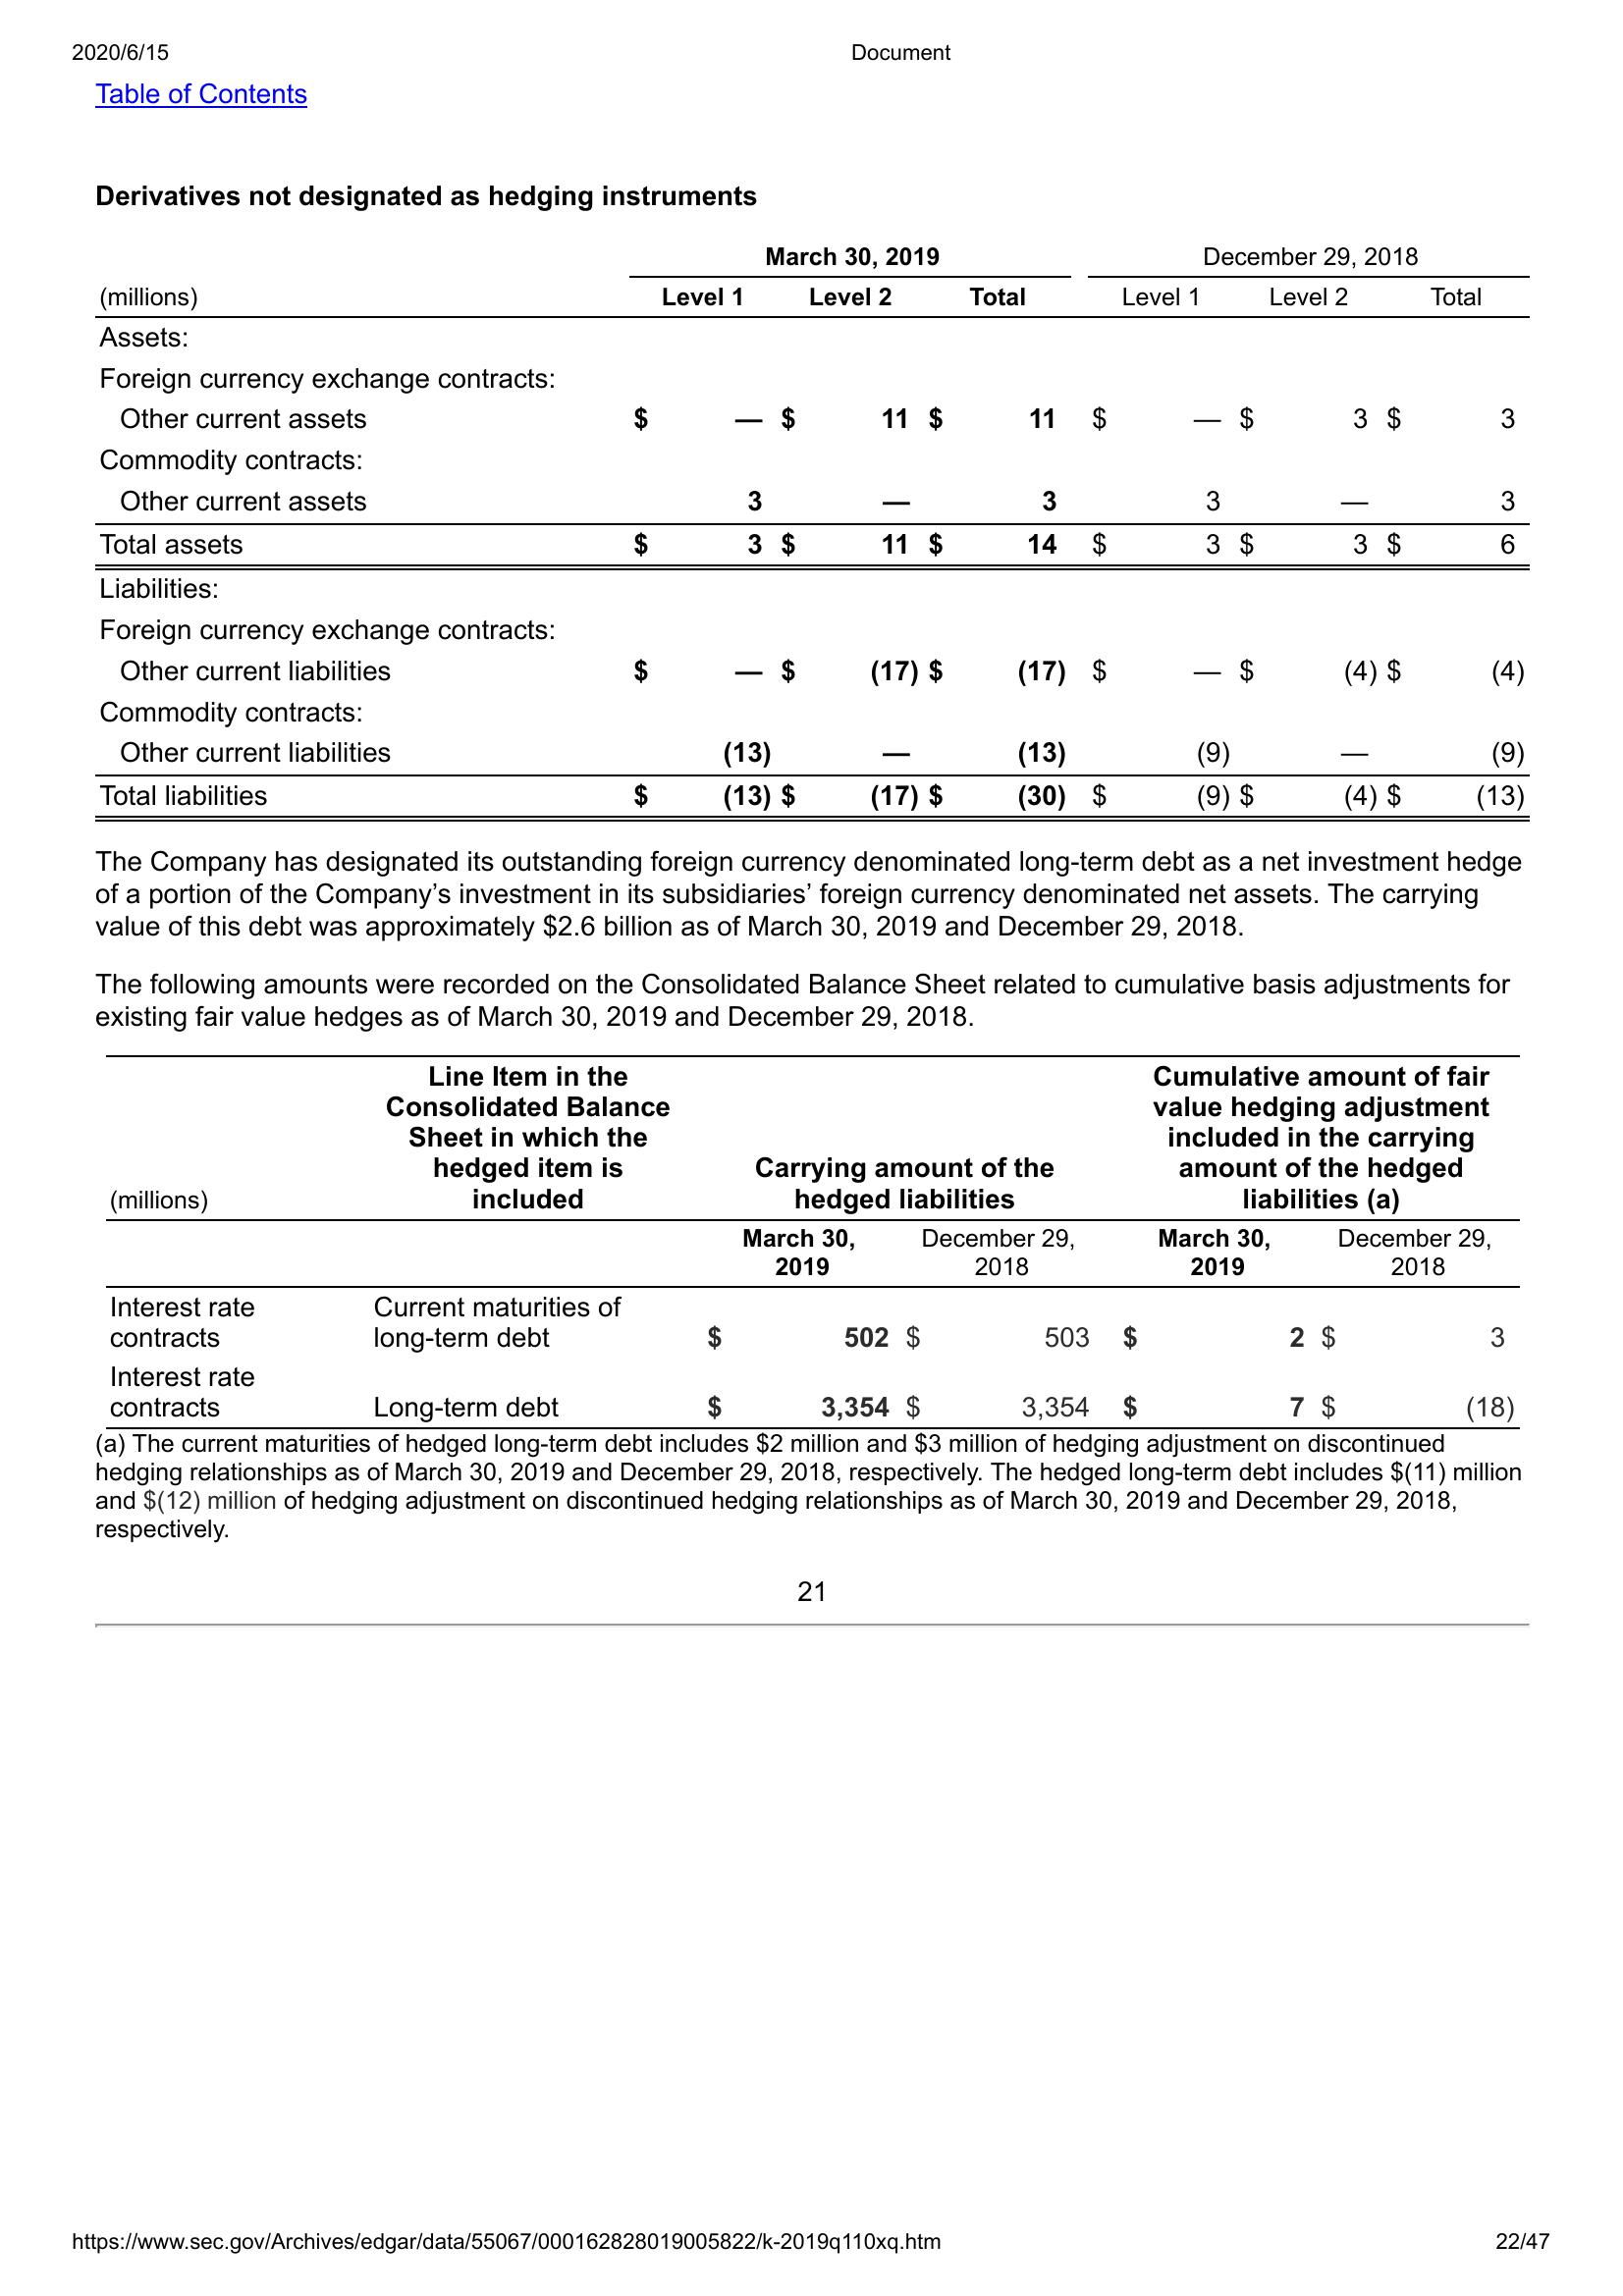table: (95, 244, 1539, 827), (95, 1048, 1535, 1434)
